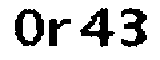0: (11, 5, 47, 50)
3: (120, 5, 152, 51)
4: (79, 3, 117, 50)
r: (46, 13, 75, 51)
